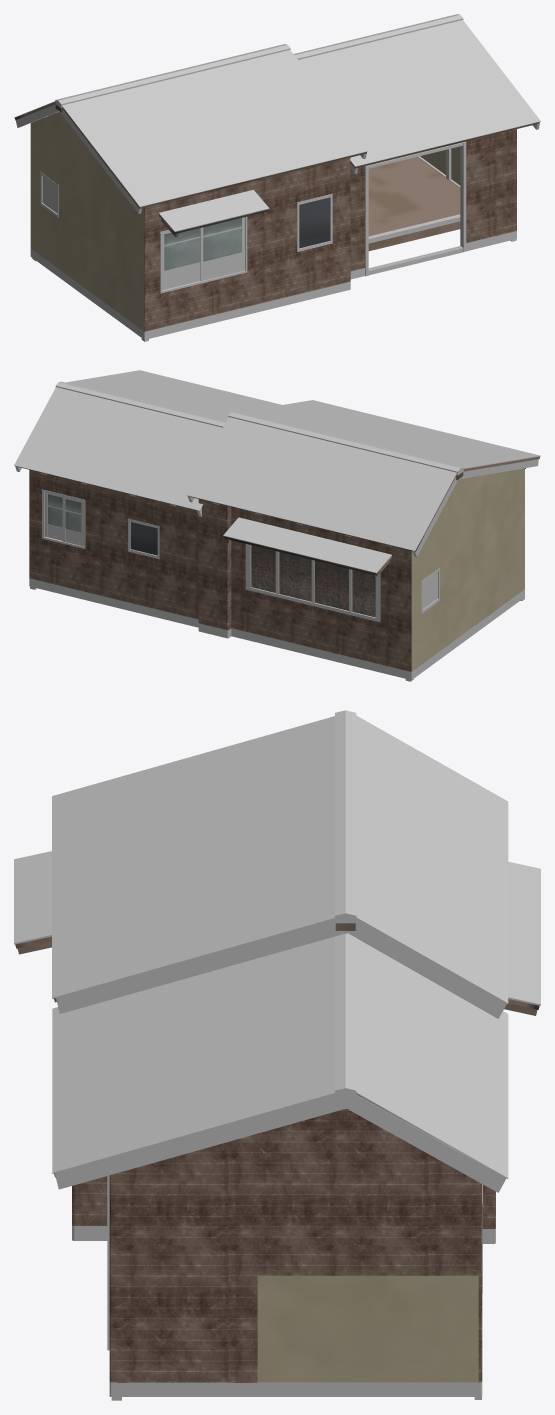
File: JpHouse_01a.fbx
The picture shows the model from 3 angles, top to bottom: view 1: azimuth 30°, elevation 25°; view 2: azimuth 150°, elevation 25°; view 3: azimuth 270°, elevation 25°; orthographic projection. The views are drawn at different scales.
Parts seen in each view (by area): view 1: JpHouse_01a; view 2: JpHouse_01a; view 3: JpHouse_01a.
Boxes of the visible parts, x1=… form: JpHouse_01a: x1=14, y1=14, x2=540, y2=341; JpHouse_01a: x1=14, y1=370, x2=540, y2=681; JpHouse_01a: x1=14, y1=710, x2=540, y2=1400.
Size of the model in its own units: 10.31 by 4.62 by 6.45.
